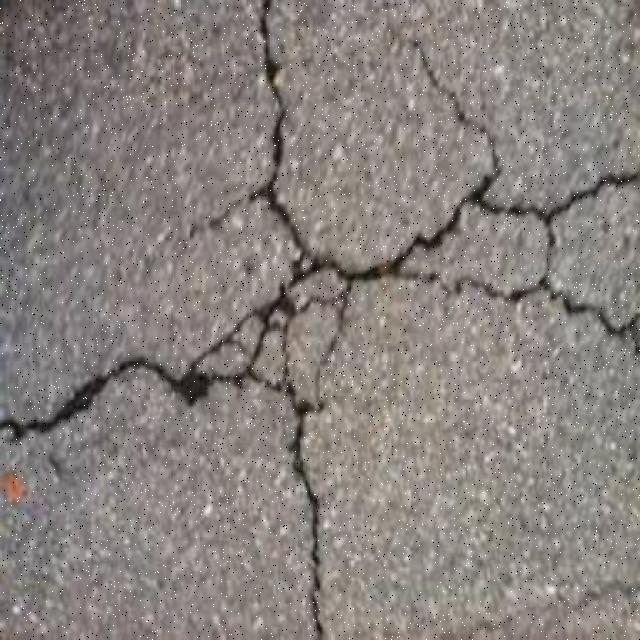Crack: (0, 0, 640, 633)
